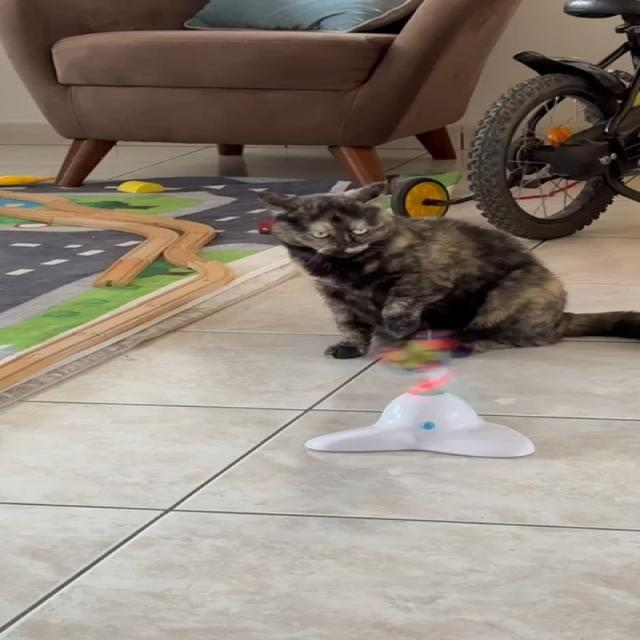authorized: (256, 180, 639, 360)
